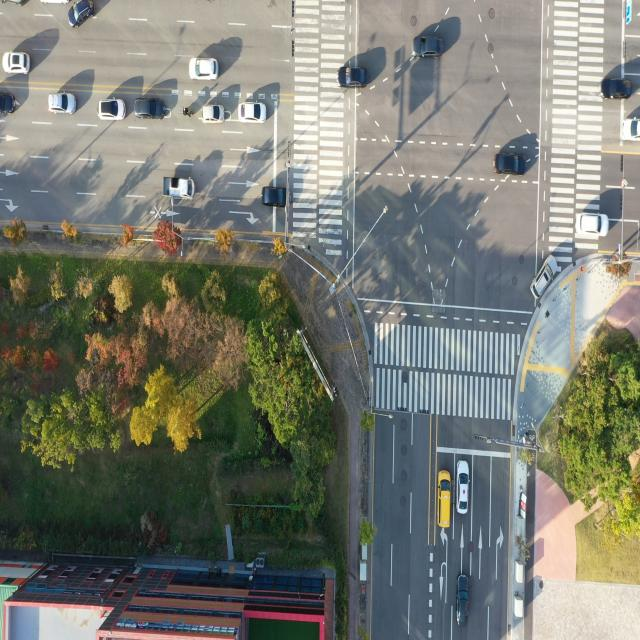car: (532, 254, 557, 298), (336, 63, 369, 94), (414, 31, 446, 58), (437, 469, 451, 529), (493, 153, 526, 178), (455, 574, 470, 628), (576, 212, 607, 238), (600, 75, 632, 100), (134, 97, 166, 121), (457, 462, 471, 516), (101, 96, 128, 120), (65, 3, 94, 25), (49, 93, 76, 116), (191, 59, 218, 82), (4, 51, 32, 73), (620, 118, 640, 145), (240, 103, 266, 123), (264, 186, 288, 206), (0, 86, 16, 114), (201, 106, 224, 124)
small_truck: (166, 176, 194, 200)
